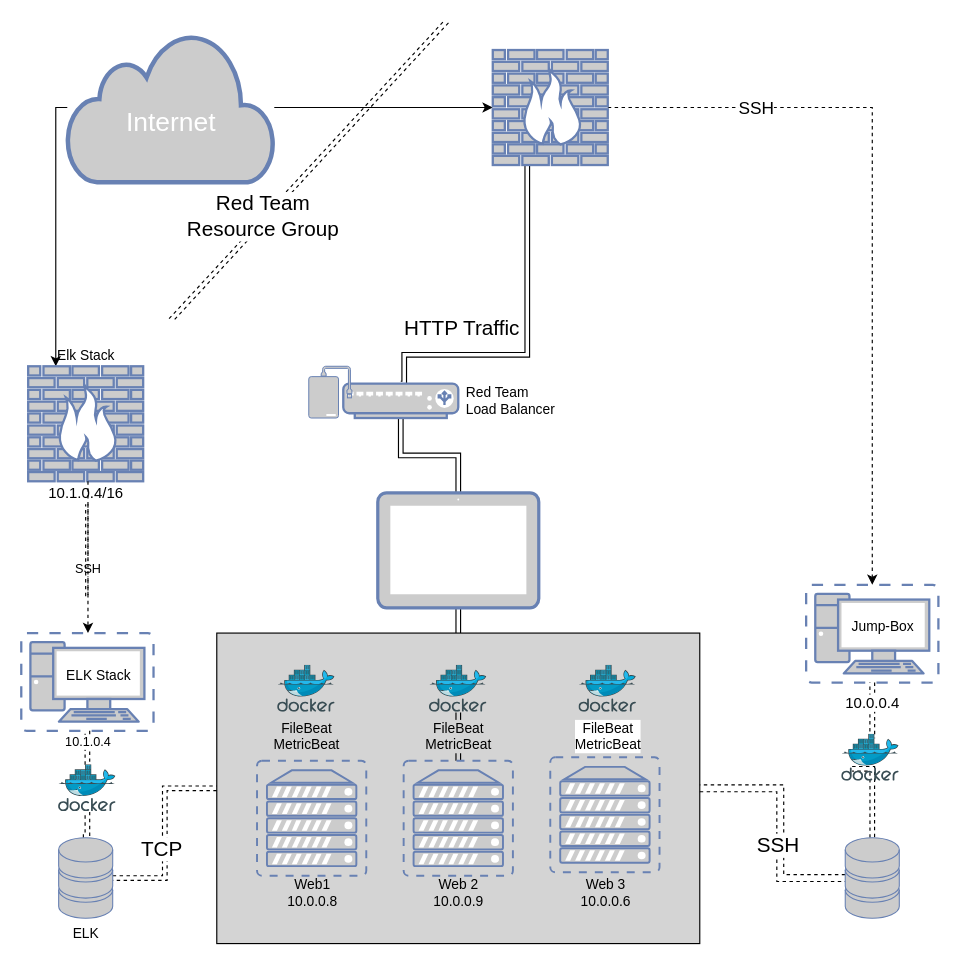
Image size: 959x965. Some labels were removed from this diagram. The shapes that lost their labels are listed below. From the top down, each one's centre as x and y in pixels, then its label:
the point at 549,107: RedTeamFireWall
the point at 329,392: Health Probe
the point at 457,549: Red Team Net 10.0.0.0/16
the point at 872,877: Ansible
